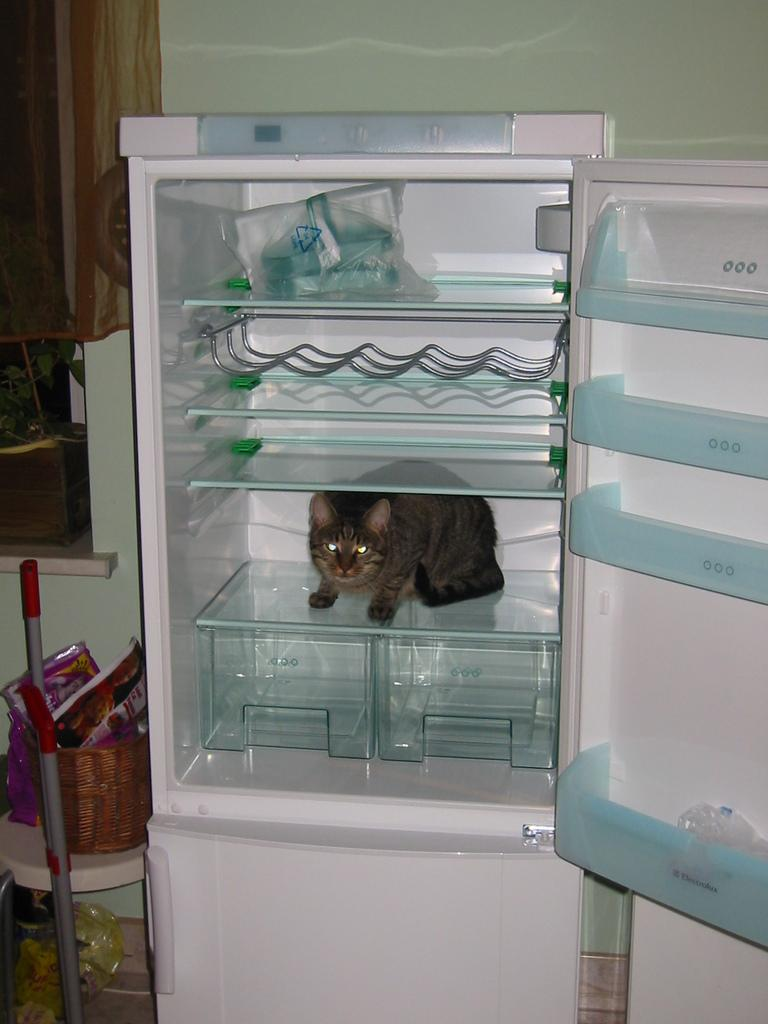handle: (135, 829, 186, 984)
